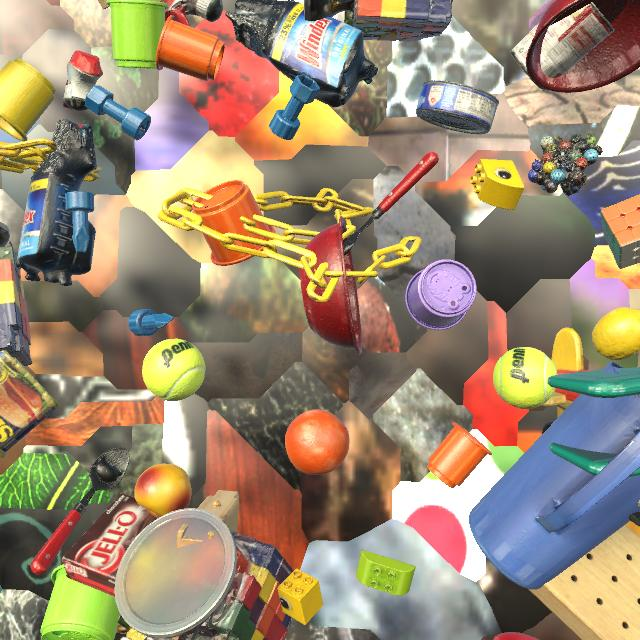ycb_005_tomato_soup_can: (510, 2, 615, 91)
ycb_007_tuna_fish_can: (416, 80, 499, 134)
ycb_008_pudding_box: (62, 493, 157, 597)
ycb_010_potted_meat_can: (0, 350, 60, 458)
ycb_013_apple: (493, 632, 539, 640)
ycb_014_lemon: (592, 307, 640, 361)
ycb_015_peach: (134, 464, 192, 518)
ycb_017_orange: (285, 409, 349, 475)
